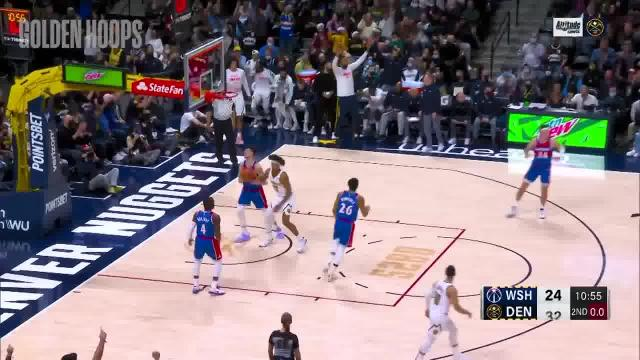ball-handler: (239, 155, 312, 254)
player: (504, 123, 567, 223), (413, 264, 473, 360), (227, 150, 284, 248), (322, 175, 370, 285), (182, 193, 230, 302)
